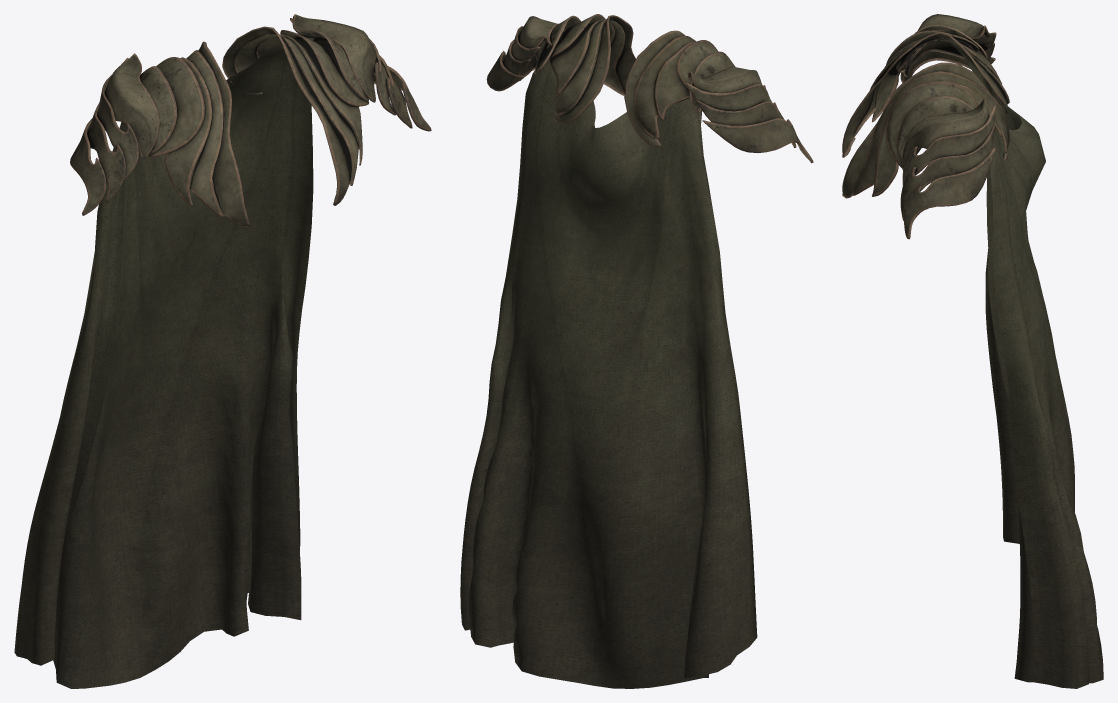
The model's file is mirkwood_shoulder.fbx.
3 renders of one model, left to right at view 1: azimuth 30°, elevation 25°; view 2: azimuth 150°, elevation 25°; view 3: azimuth 270°, elevation 25°, orthographic. The views are drawn at different scales.
Visible parts, largest first — view 1: mirkwood_shoulder; view 2: mirkwood_shoulder; view 3: mirkwood_shoulder.
Part boxes in pixels (x1,y1,x2,y2): mirkwood_shoulder: (14,14,431,688); mirkwood_shoulder: (460,14,813,688); mirkwood_shoulder: (842,14,1103,688).
Bounding box in the file's own units: 0.7435 × 0.5263 × 1.38.
1 material, 1 textured.
